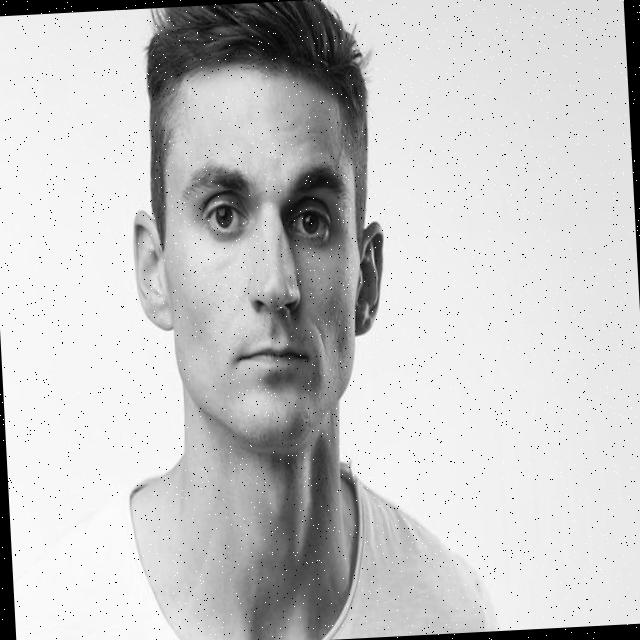Neutral: (158, 63, 370, 453)
